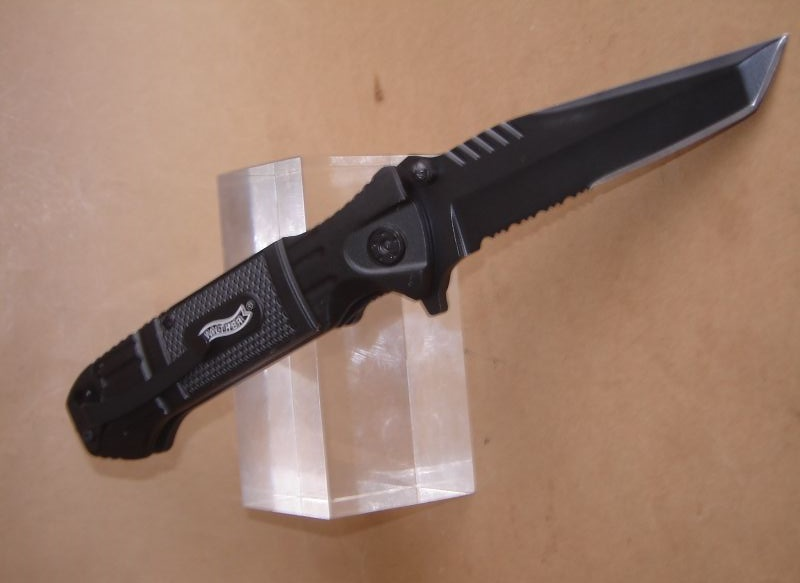knife: (438, 32, 792, 234)
